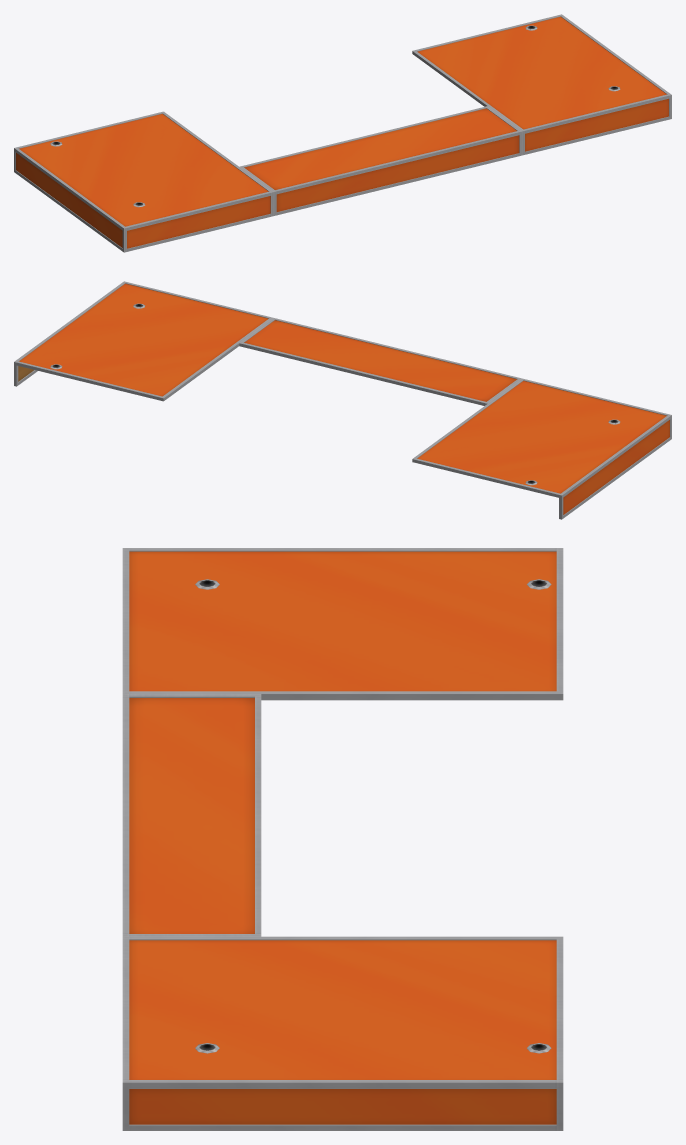
Rendered from jsf_4P_s03_c01_t03_DX.fbx.
3 views of the same model, one above another, from view 1: azimuth 30°, elevation 25°; view 2: azimuth 150°, elevation 25°; view 3: azimuth 270°, elevation 25° (orthographic). The views are drawn at different scales.
Parts seen in each view (by area): view 1: jsf_4P_s03_c01_t03_DX; view 2: jsf_4P_s03_c01_t03_DX; view 3: jsf_4P_s03_c01_t03_DX.
Boxes of the visible parts, x1=… form: jsf_4P_s03_c01_t03_DX: x1=14, y1=14, x2=671, y2=252; jsf_4P_s03_c01_t03_DX: x1=14, y1=281, x2=671, y2=519; jsf_4P_s03_c01_t03_DX: x1=122, y1=548, x2=563, y2=1130.
Size of the model in its own units: 298 by 12.99 by 104.
